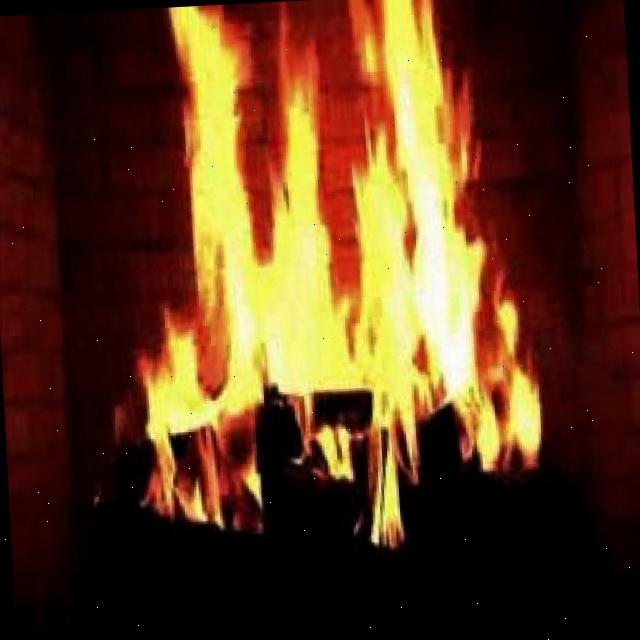fire: (174, 44, 533, 482)
